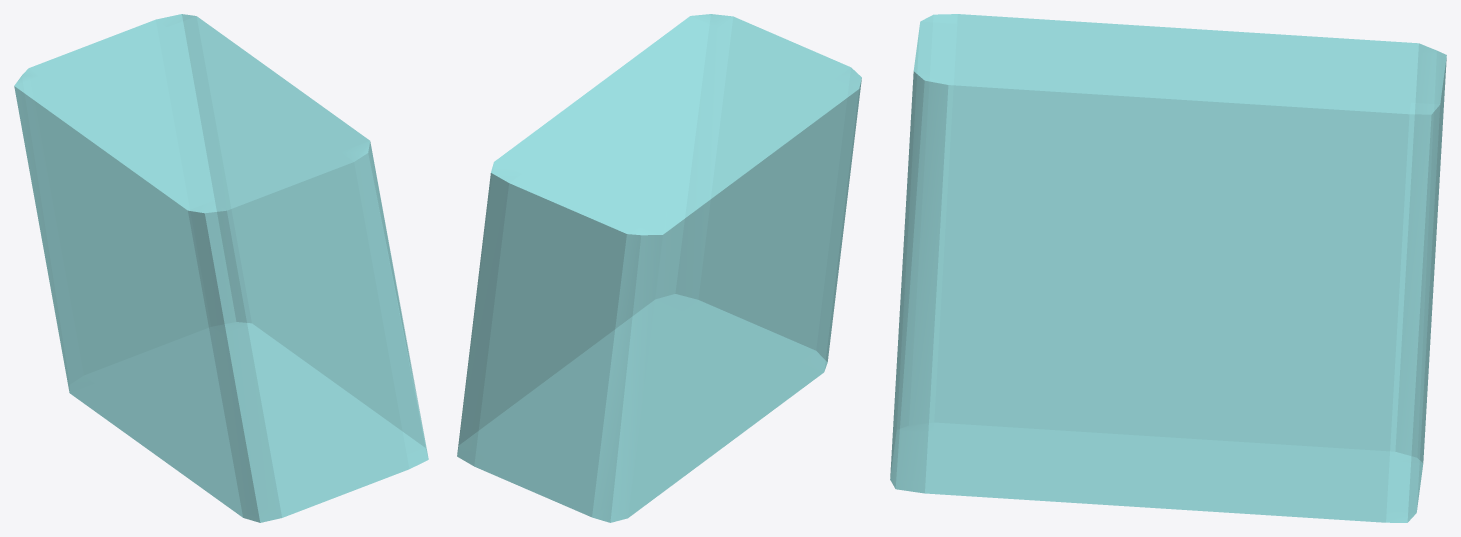
File: lazer hologram puzzle lock hologram full screen.fbx
The picture shows the model from 3 angles, left to right: view 1: azimuth 30°, elevation 25°; view 2: azimuth 150°, elevation 25°; view 3: azimuth 270°, elevation 25°; orthographic projection. The views are drawn at different scales.
Parts seen in each view (by area): view 1: 8da0531e-ea82-487c-ab02-6597c236aac2; view 2: 8da0531e-ea82-487c-ab02-6597c236aac2; view 3: 8da0531e-ea82-487c-ab02-6597c236aac2.
Part boxes in pixels (x1,y1,x2,y2): 8da0531e-ea82-487c-ab02-6597c236aac2: [14, 14, 428, 522]; 8da0531e-ea82-487c-ab02-6597c236aac2: [457, 14, 861, 522]; 8da0531e-ea82-487c-ab02-6597c236aac2: [890, 14, 1446, 522].
Size of the model in its own units: 38421 by 54942 by 63315.
